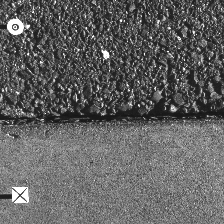circle: (6, 19, 24, 35)
crack: (1, 110, 223, 126)
square: (11, 186, 29, 203)
